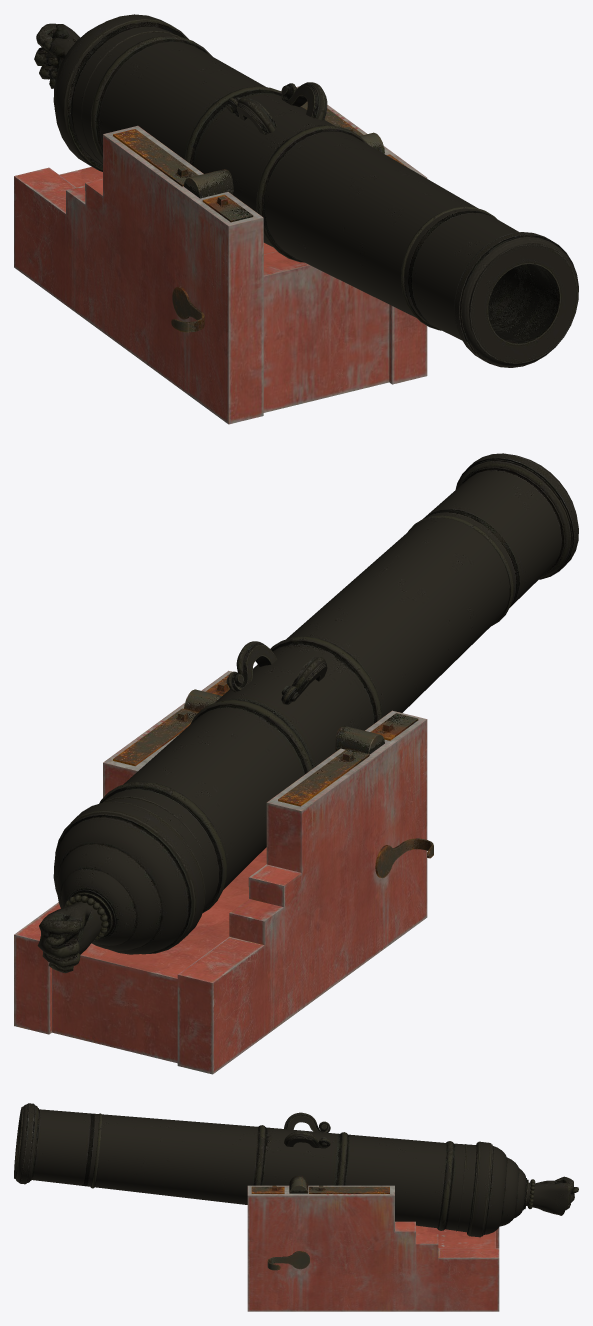
The model's file is meriam.fbx.
3 renders of one model, top to bottom at view 1: azimuth 30°, elevation 25°; view 2: azimuth 150°, elevation 25°; view 3: azimuth 270°, elevation 25°, orthographic. The views are drawn at different scales.
Visible parts, largest first — view 1: Cylinder, Cube.002, BezierCurve.001, Cube.001; view 2: Cylinder, Cube.002, Cube.001, BezierCurve.001; view 3: Cylinder, Cube.002, Cube.001, BezierCurve.001.
Part boxes in pixels (x1=…): Cylinder: x1=53, y1=14, x2=578, y2=367; Cube.002: x1=14, y1=86, x2=427, y2=424; BezierCurve.001: x1=226, y1=82, x2=327, y2=134; Cube.001: x1=34, y1=23, x2=80, y2=88; Cylinder: x1=53, y1=453, x2=578, y2=954; Cube.002: x1=14, y1=670, x2=433, y2=1074; Cube.001: x1=37, y1=898, x2=107, y2=973; BezierCurve.001: x1=226, y1=641, x2=327, y2=704; Cylinder: x1=14, y1=1103, x2=528, y2=1237; Cube.002: x1=247, y1=1175, x2=499, y2=1311; Cube.001: x1=526, y1=1176, x2=578, y2=1215; BezierCurve.001: x1=284, y1=1112, x2=330, y2=1148.
Bounding box in the file's own units: 304 × 339 × 984.
Materials: 2 (2 with a texture image).
